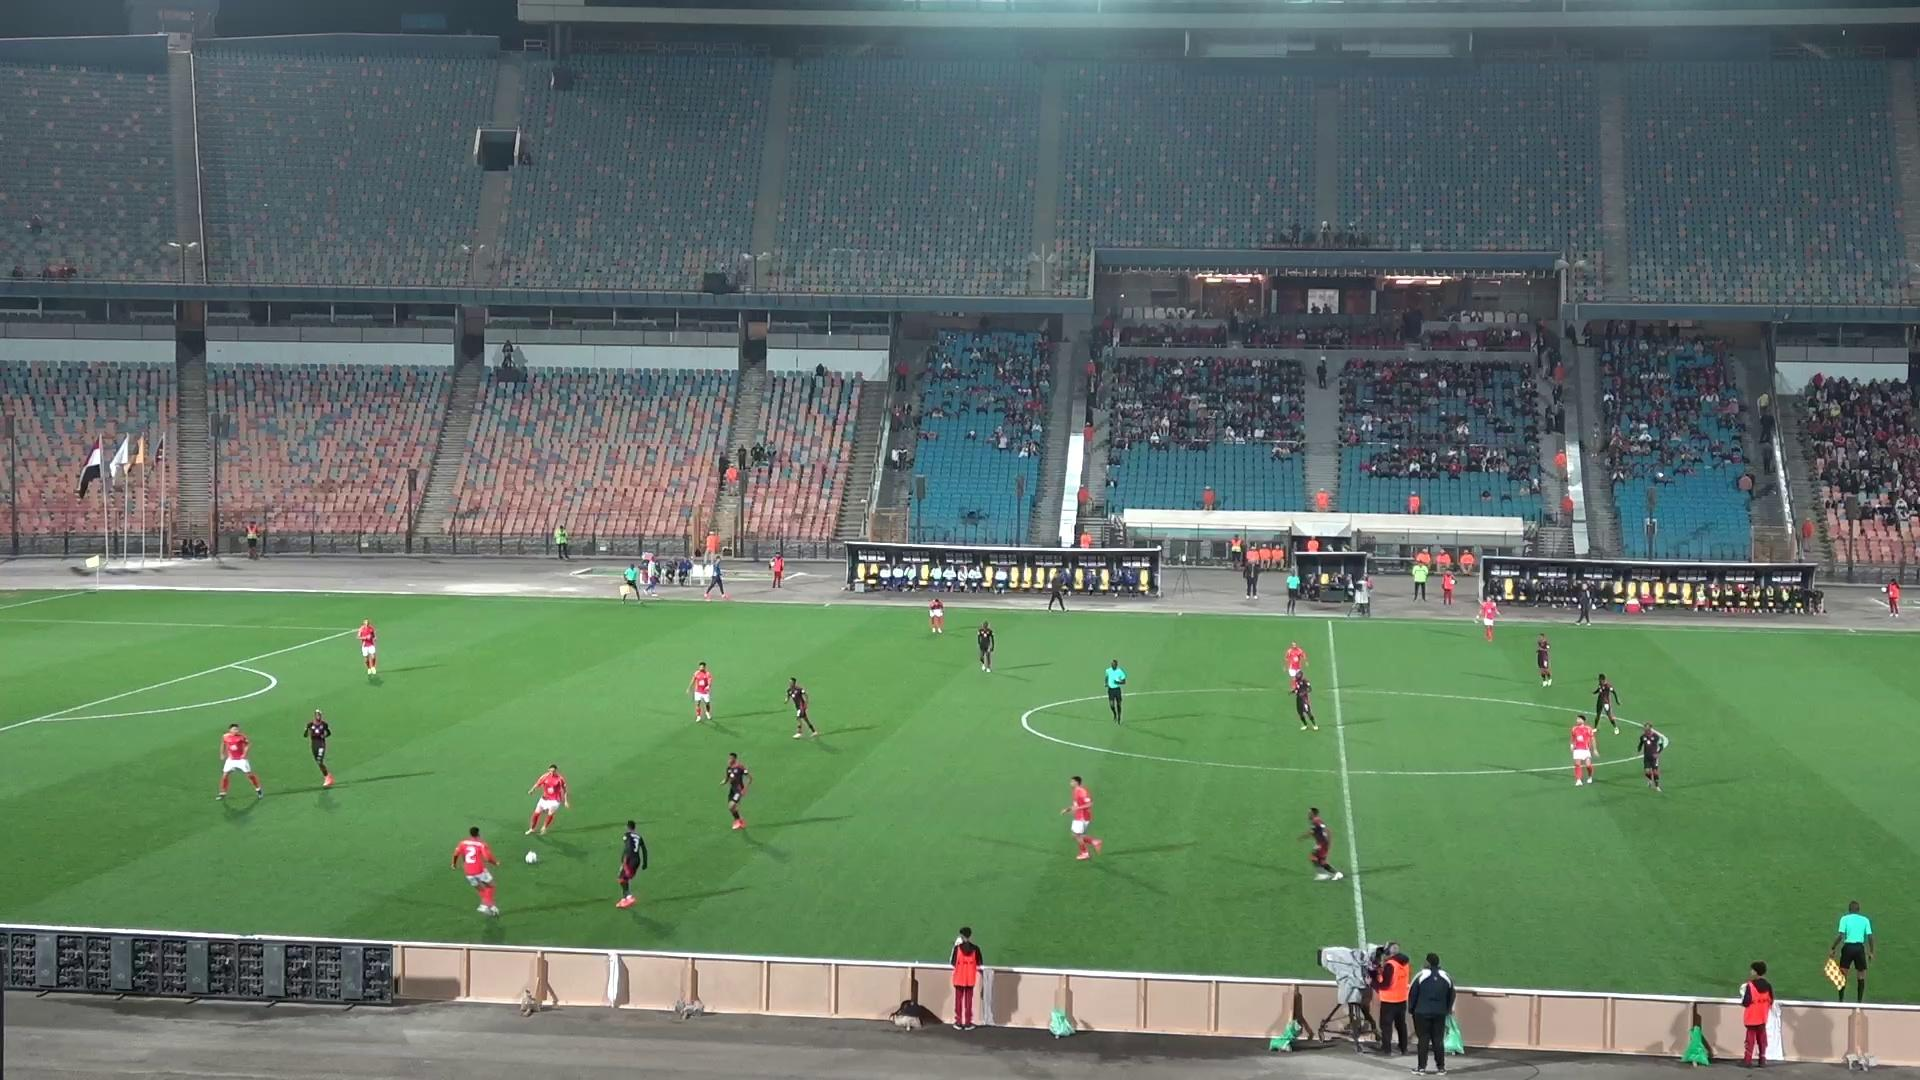Ball: (524, 849, 541, 864)
Refree: (1102, 659, 1126, 723), (1284, 562, 1302, 615), (618, 566, 644, 601)
Team1: (452, 827, 498, 916), (218, 723, 262, 800), (1062, 777, 1101, 858), (527, 764, 568, 833), (1571, 713, 1596, 786), (686, 661, 712, 720), (353, 618, 378, 680), (1478, 597, 1499, 641), (1284, 641, 1307, 678), (927, 597, 945, 634)
Team2: (615, 820, 647, 909), (1305, 808, 1346, 880), (303, 709, 335, 789), (723, 752, 753, 829), (1636, 723, 1668, 791), (785, 676, 818, 738), (1287, 670, 1319, 731), (1588, 673, 1618, 732), (1535, 632, 1553, 686), (977, 620, 994, 673)
